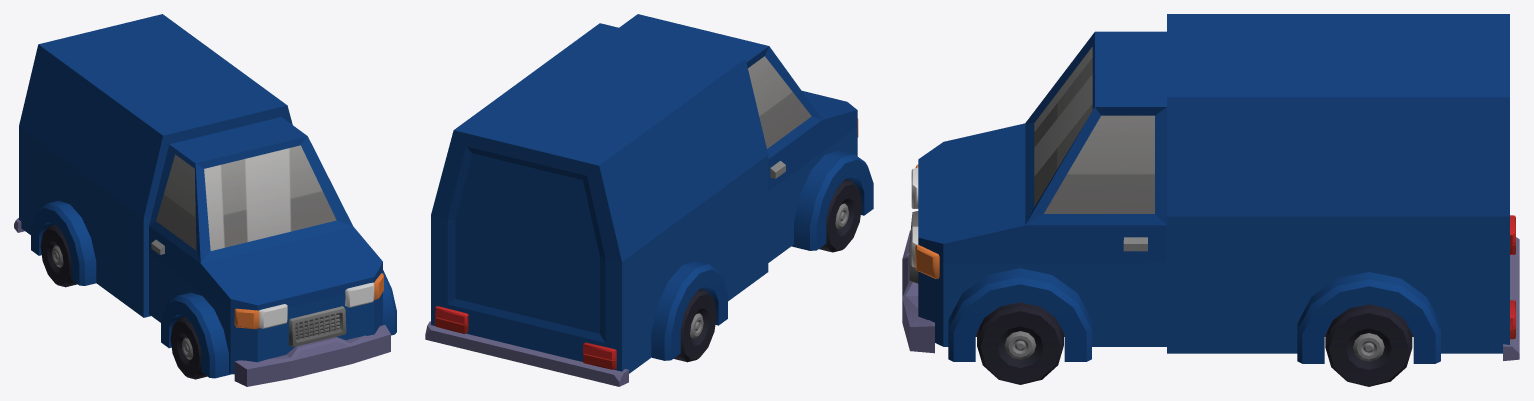
The model's file is Van_4.fbx.
3 renders of one model, left to right at view 1: azimuth 30°, elevation 25°; view 2: azimuth 150°, elevation 25°; view 3: azimuth 270°, elevation 25°, orthographic. The views are drawn at different scales.
Parts seen in each view (by area): view 1: Van_4, wheel_FR, wheel_BR; view 2: Van_4, wheel_BR, wheel_FR; view 3: Van_4, wheel_BL, wheel_FL.
Boxes of the visible parts, x1,y1,x2,y2 form: Van_4: (14,14,396,386); wheel_FR: (170,317,207,379); wheel_BR: (40,224,77,287); Van_4: (425,14,873,386); wheel_BR: (673,289,716,362); wheel_FR: (819,179,861,252); Van_4: (902,14,1519,363); wheel_BL: (1325,304,1412,386); wheel_FL: (977,302,1063,384).
Bounding box in the file's own units: 123 × 119 × 248.
